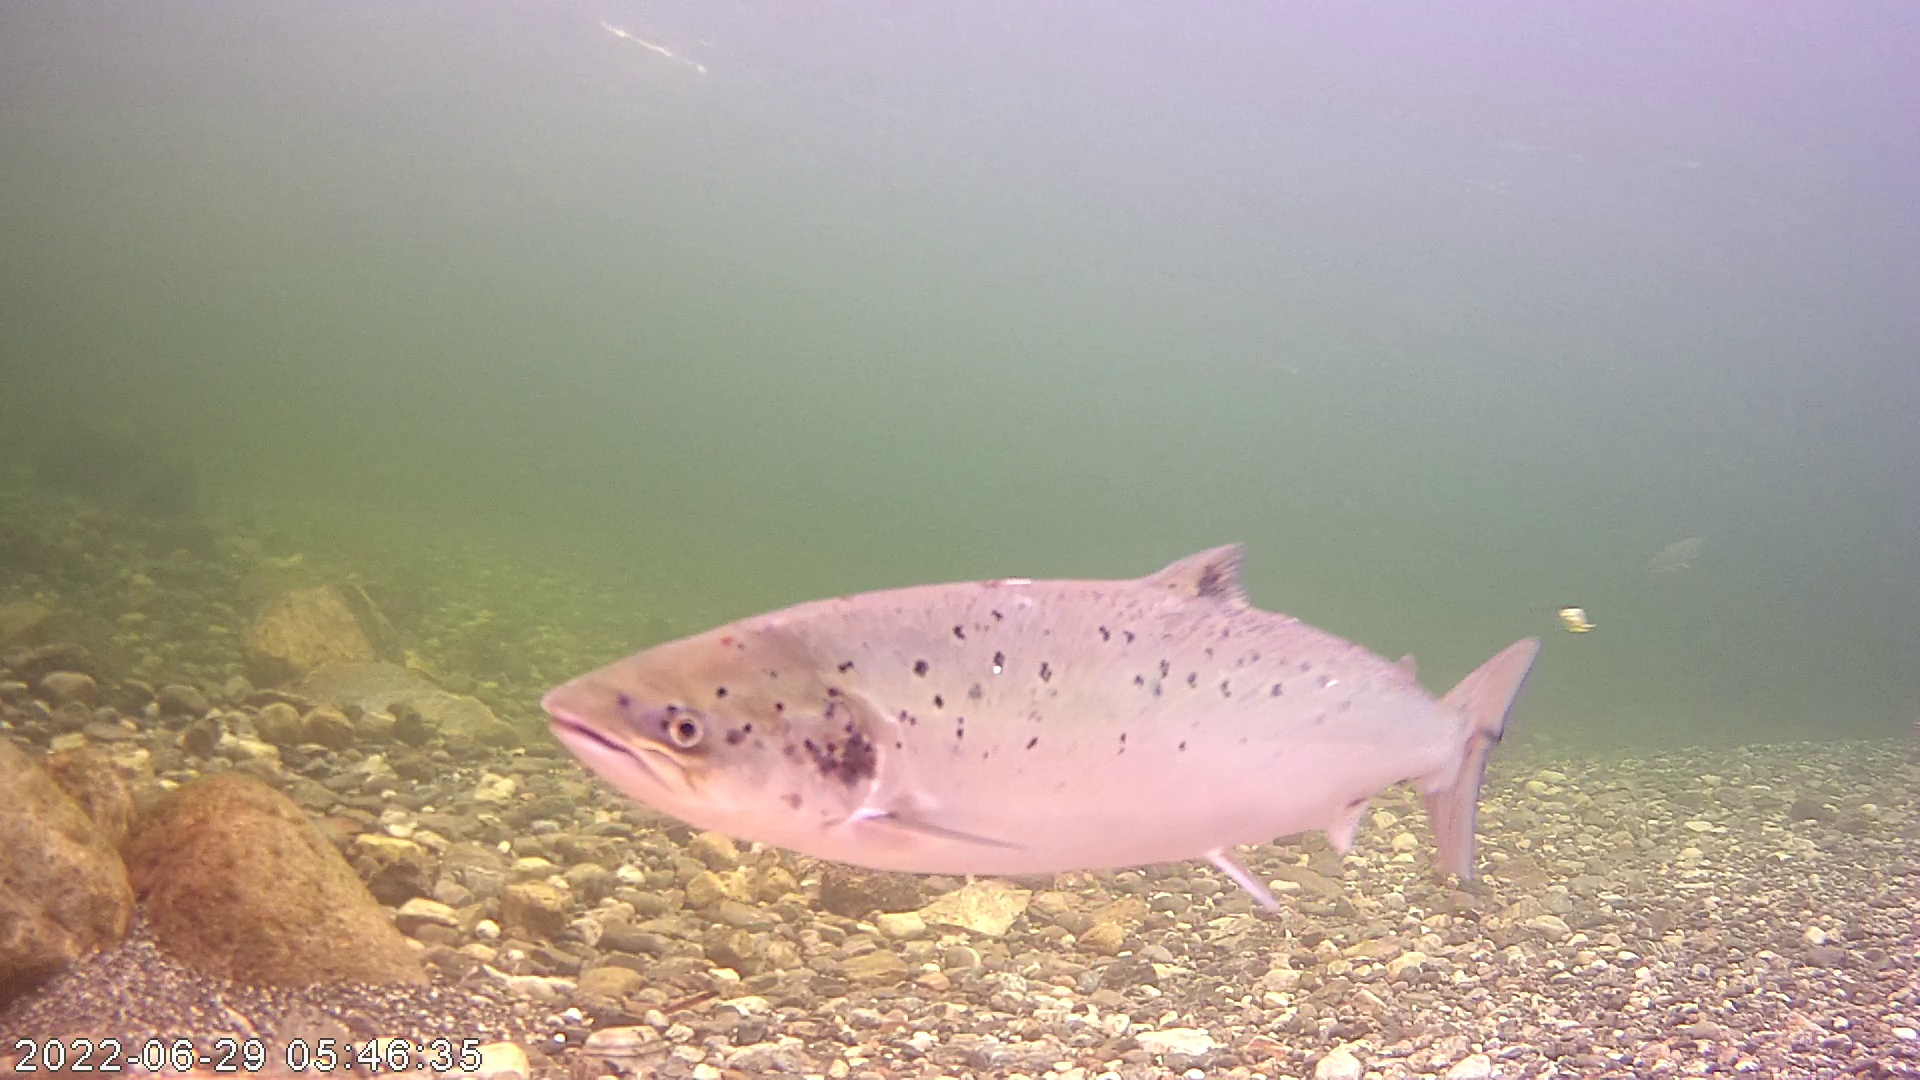salmon: (553, 425, 1542, 916)
